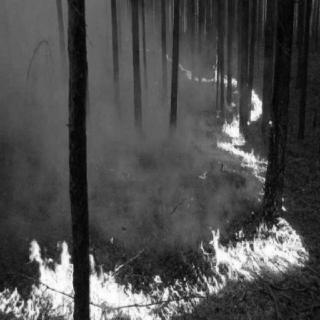Fire: (5, 175, 298, 318), (166, 33, 272, 173)
